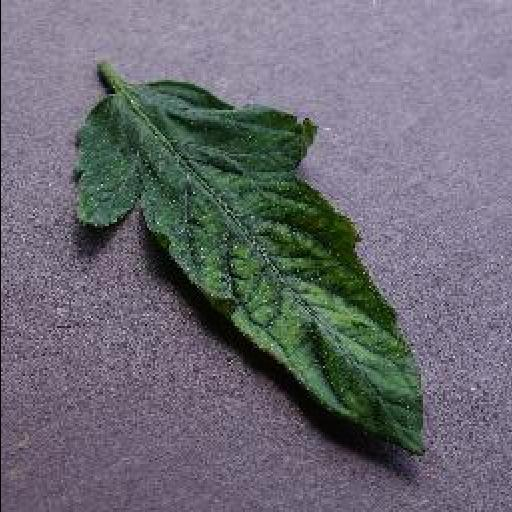Mosaic Virus: (70, 78, 430, 454)
